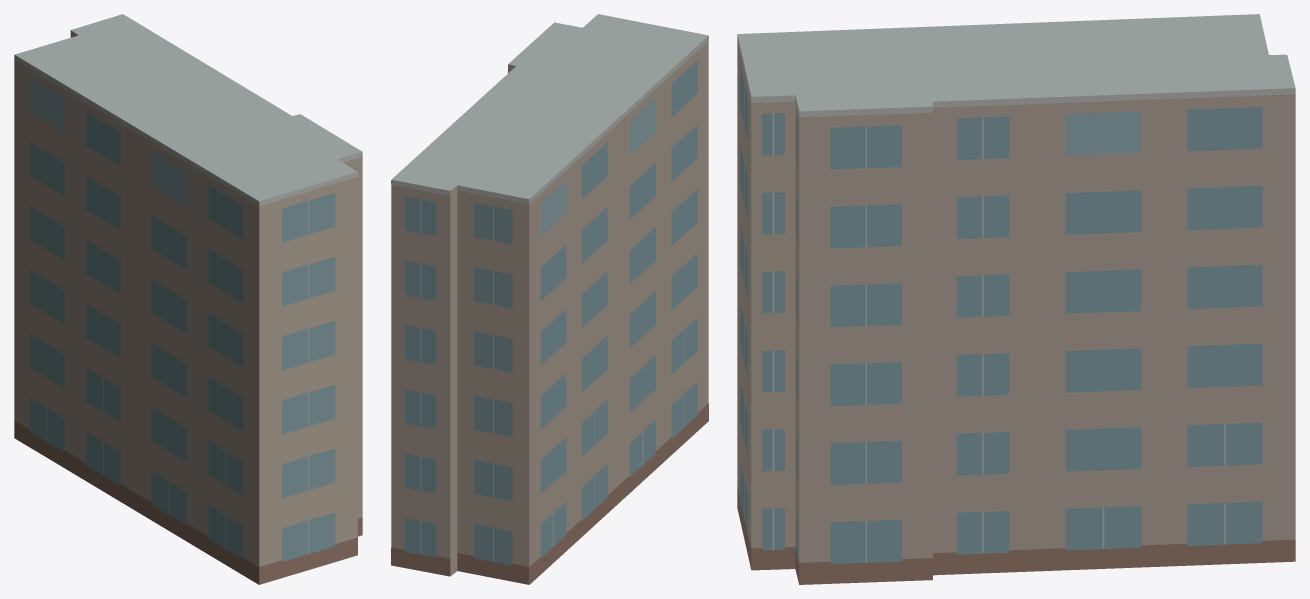
File: survey-upis-32563872.glb
3 renders of one model, left to right at view 1: azimuth 30°, elevation 25°; view 2: azimuth 150°, elevation 25°; view 3: azimuth 270°, elevation 25°, orthographic. The views are drawn at different scales.
Visible parts, largest first — view 1: survey-upis-32563872.tmp; view 2: survey-upis-32563872.tmp; view 3: survey-upis-32563872.tmp.
Part boxes in pixels (left/top/right/bottom): survey-upis-32563872.tmp: left=14, top=14, right=362, bottom=584; survey-upis-32563872.tmp: left=391, top=14, right=708, bottom=584; survey-upis-32563872.tmp: left=737, top=14, right=1295, bottom=584.
Size of the model in its own units: 8.3 by 18.8 by 20.1.
